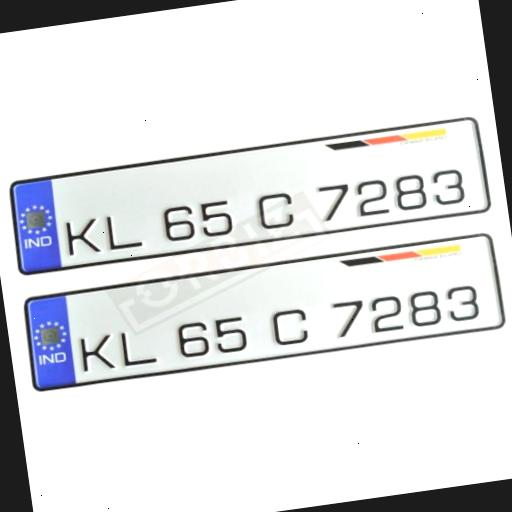number plate: (12, 114, 498, 283), (23, 232, 509, 395)
